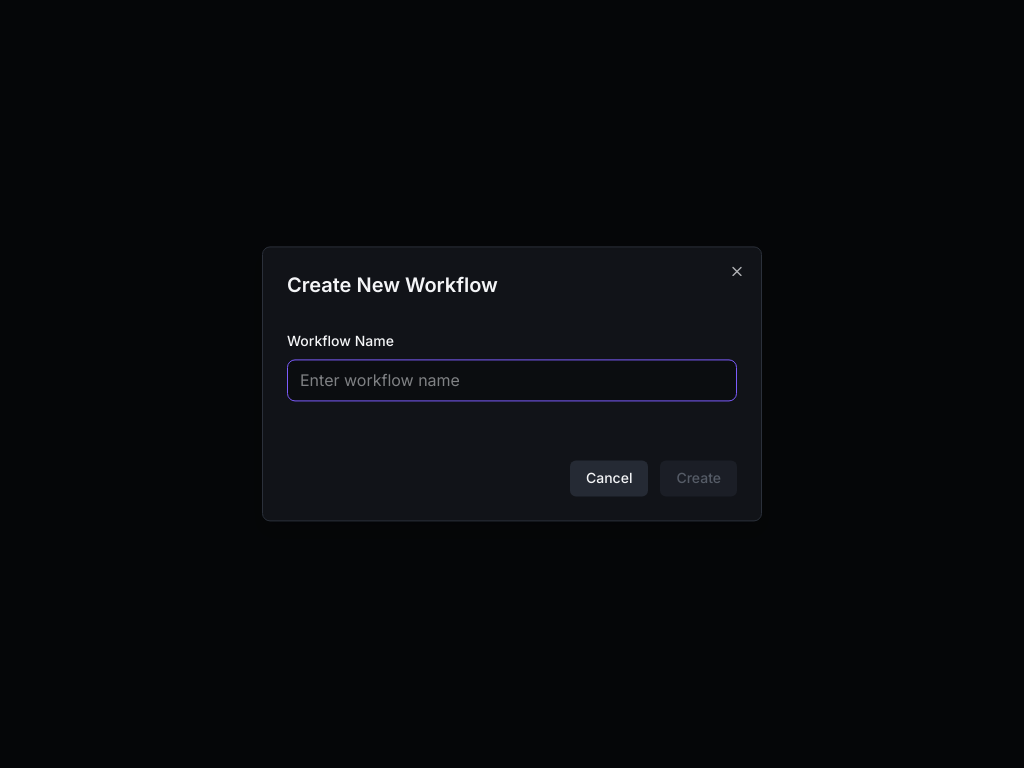
Test case: CreateWorkflowModal Integration Tests › Input validation - duplicate name detection › should show error when name matches existing workflow (exact match)
This screenshot has width=1024, height=768.
Type "Workflow 1" into the field with placeholder "Enter workflow name".
click(512, 380); type("Workflow 1")  # box [287,359,737,401]
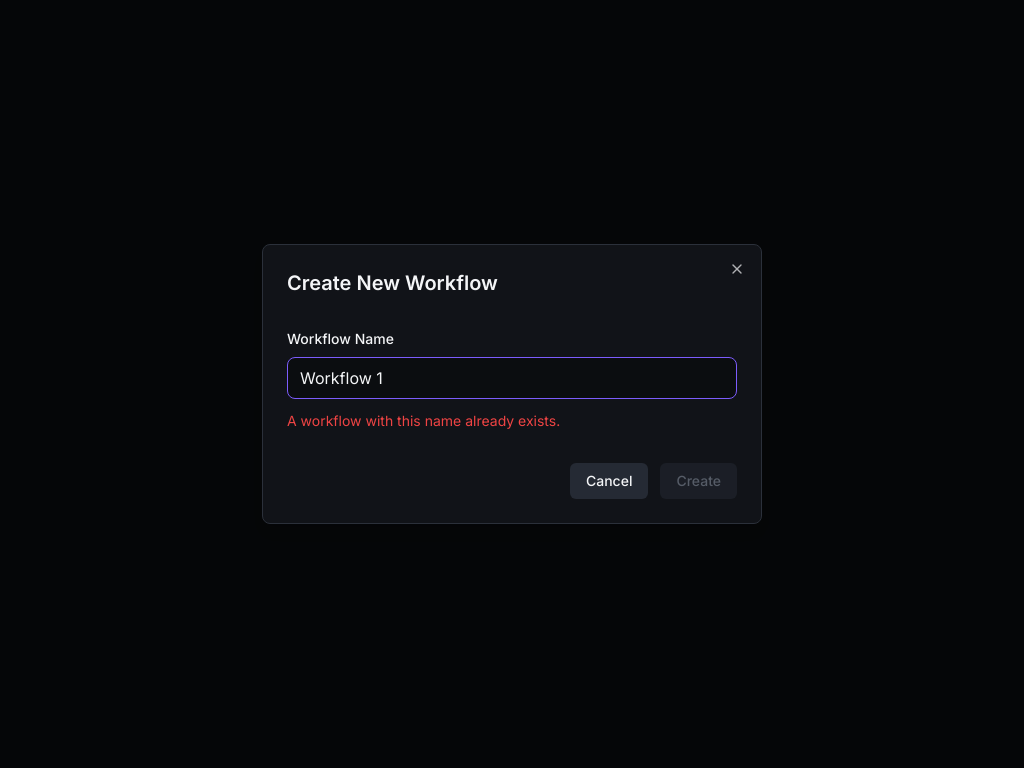
Expected: the text "A workflow with this name already exists." is shown, [287,412,560,429]
